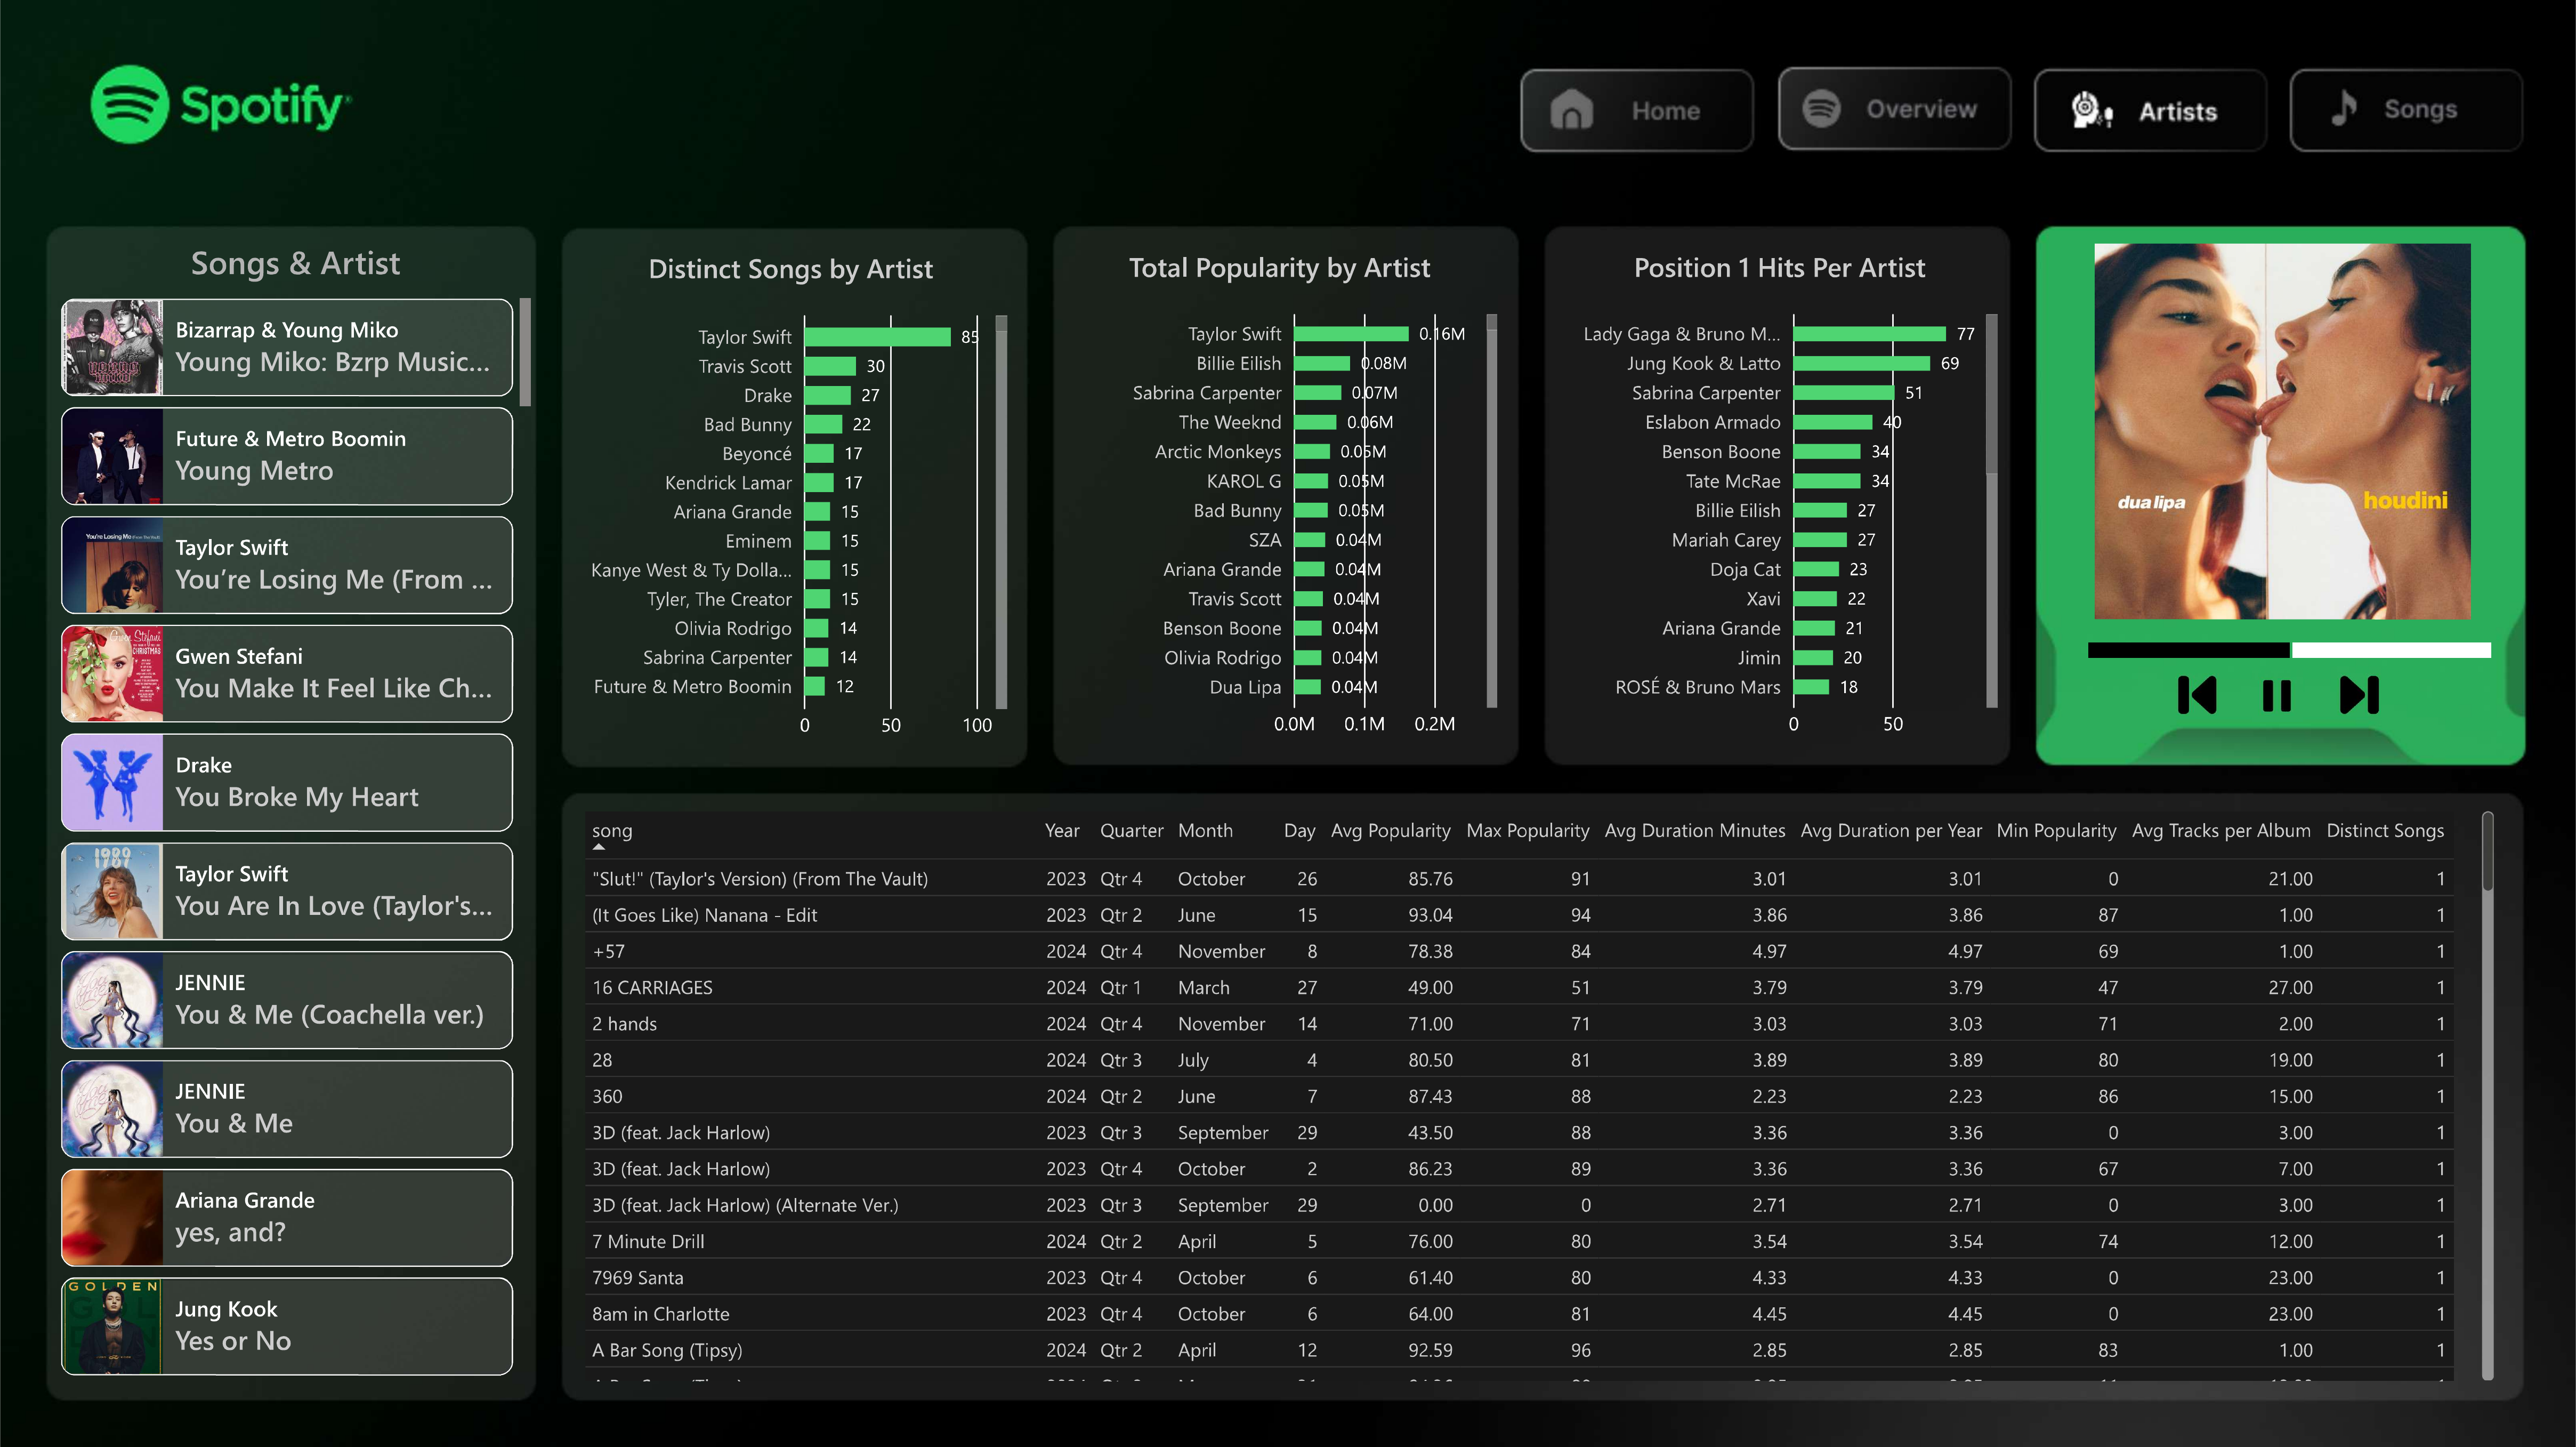

Layout of this report page (visuals, bound fields, positions):
{"tool":"powerbi","page":{"name":"Artists","canvas":[1920,1080],"ordinal":3},"visuals":[{"type":"actionButton","box":[1706.9,49.5,172.3,63.4],"z":0},{"type":"actionButton","box":[1514.9,49.5,172.3,63.4],"z":1000},{"type":"actionButton","box":[1326.7,49.5,172.3,63.4],"z":2000},{"type":"actionButton","box":[1132.7,49.5,172.3,63.4],"z":3000},{"type":"clusteredBarChart","title":"Distinct Songs by Artist","fields":{"Category":["Top-50-World.artist"],"Y":["_Measures.Distinct Songs"]},"box":[412.5,170.8,354.2,400.2],"z":4000},{"type":"clusteredBarChart","title":"Total Popularity by Artist","fields":{"Category":["Top-50-World.artist"],"Y":["Sum(Top-50-World.popularity)"]},"box":[776.2,170.3,356.4,400],"z":5000},{"type":"clusteredBarChart","title":"Position 1 Hits Per Artist ","fields":{"Category":["Top-50-World.artist"],"Y":["_Measures.Position1 Hits per Artist"]},"box":[1148.5,170.3,356.4,400],"z":6000},{"type":"advancedSlicerVisual","title":"Songs & Artist","fields":{"Values":["Top-50-World.song"]},"box":[45.5,178.2,350.5,851.5],"z":7000},{"type":"cardVisual","fields":{"Data":["Min(Top-50-World.album_cover_url)"]},"box":[1489,181,425.3,280.5],"z":8000},{"type":"hundredPercentStackedBarChart","fields":{"Y":["_Measures.Avg Popularity","Avg(Top-50-World.popularity)"]},"box":[1540.6,437.6,332.7,87.1],"z":9000},{"type":"image","box":[1617.8,501,39.6,31.7],"z":10000},{"type":"image","box":[1738.6,501,39.6,31.7],"z":11000},{"type":"image","box":[1671.3,499,53.5,37.6],"z":12000},{"type":"tableEx","fields":{"Values":["Top-50-World.song","Top-50-World.release_date.Variation.Date Hierarchy.Year","Top-50-World.release_date.Variation.Date Hierarchy.Quarter","Top-50-World.release_date.Variation.Date Hierarchy.Month","Top-50-World.release_date.Variation.Date Hierarchy.Day","_Measures.Avg Popularity","_Measures.Max Popularity","_Measures.Avg Duration Minutes","_Measures.Avg Duration per Year","_Measures.Min Popularity","_Measures.Avg Tracks per Album","_Measures.Distinct Songs"]},"box":[419.8,590.1,1455.5,453.5],"z":13000}]}

Visuals, with their boxes in screenshot pixels (x1, y1, x2, y2), scaled from the page's 1920x1080 canvas onto the 2576x1447 screenshot:
actionButton: Rect(2290, 66, 2521, 151)
actionButton: Rect(2032, 66, 2264, 151)
actionButton: Rect(1780, 66, 2011, 151)
actionButton: Rect(1520, 66, 1751, 151)
"Distinct Songs by Artist" clusteredBarChart: Rect(553, 229, 1029, 765)
"Total Popularity by Artist" clusteredBarChart: Rect(1041, 228, 1520, 764)
"Position 1 Hits Per Artist " clusteredBarChart: Rect(1541, 228, 2019, 764)
"Songs & Artist" advancedSlicerVisual: Rect(61, 239, 531, 1380)
cardVisual - Min(Top-50-World.album_cover_url): Rect(1998, 243, 2569, 618)
hundredPercentStackedBarChart - _Measures.Avg Popularity x Avg(Top-50-World.popularity): Rect(2067, 586, 2513, 703)
image: Rect(2170, 671, 2224, 714)
image: Rect(2332, 671, 2386, 714)
image: Rect(2242, 669, 2314, 719)
tableEx - Top-50-World.song x Top-50-World.release_date.Variation.Date Hierarchy.Year: Rect(563, 791, 2516, 1398)
